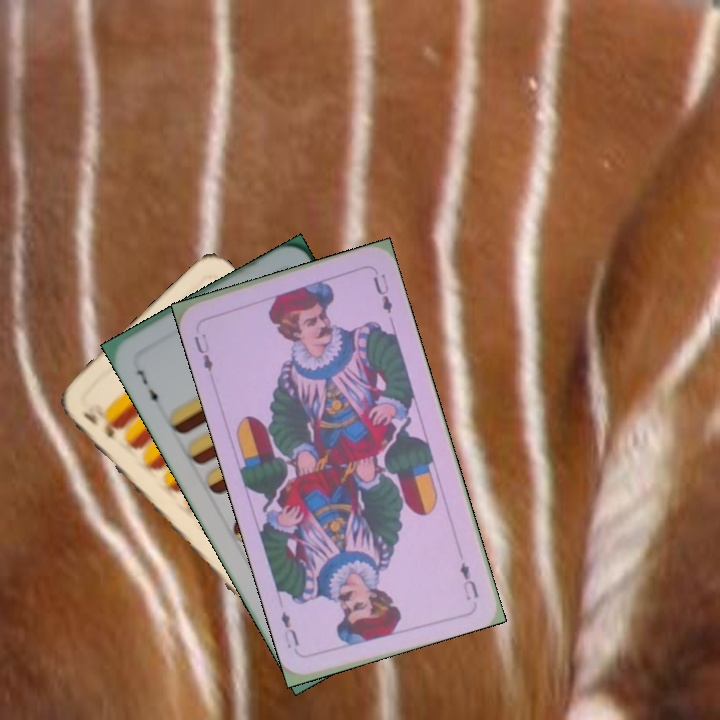E10: (79, 408, 122, 441)
E7: (132, 365, 164, 410)
EU: (455, 558, 481, 603), (190, 330, 216, 374)
